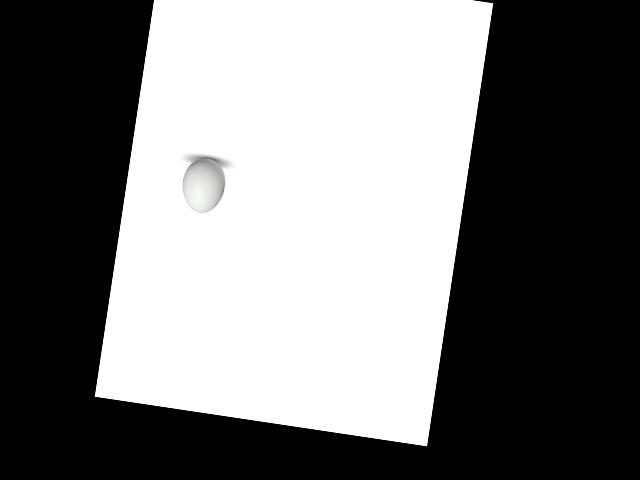egg: (178, 155, 227, 216)
